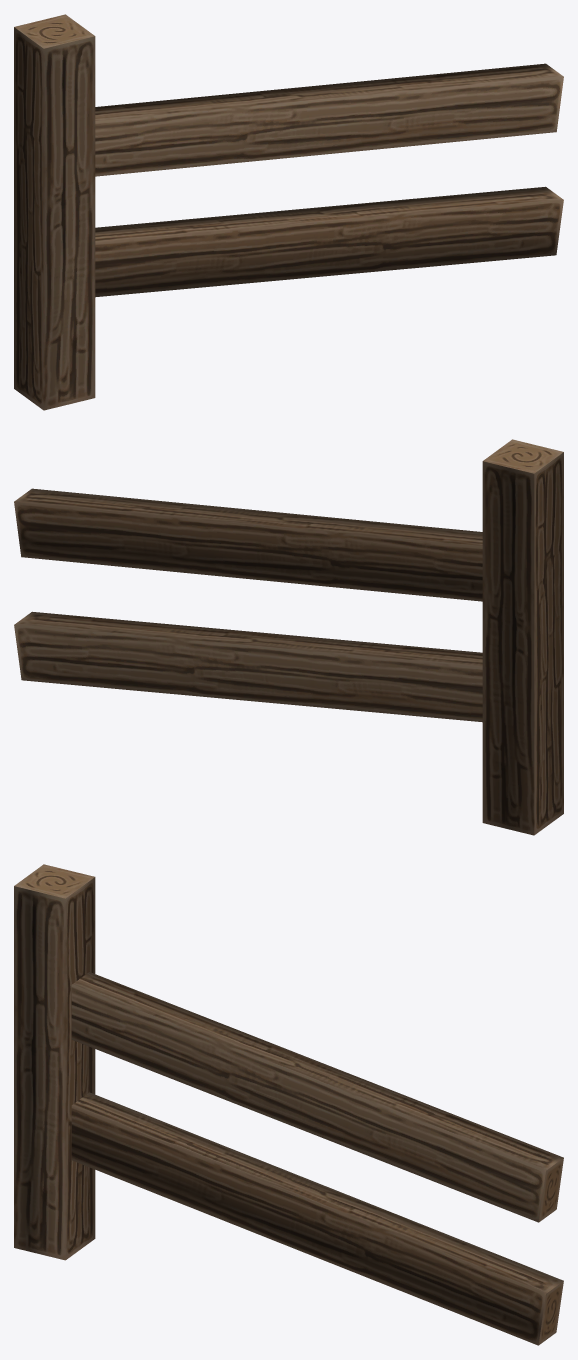
The model's file is SM_Fence_01_B.glb.
The picture shows the model from 3 angles, top to bottom: view 1: azimuth 30°, elevation 25°; view 2: azimuth 150°, elevation 25°; view 3: azimuth 330°, elevation 25°; orthographic projection.
Parts seen in each view (by area): view 1: SM_Fence_01_B; view 2: SM_Fence_01_B; view 3: SM_Fence_01_B.
Part boxes in pixels (x1,y1,x2,y2): SM_Fence_01_B: [14, 14, 563, 410]; SM_Fence_01_B: [14, 439, 563, 835]; SM_Fence_01_B: [14, 864, 563, 1345].
Bounding box in the file's own units: 1.06 × 0.6969 × 0.104.
1 material, 1 textured.
